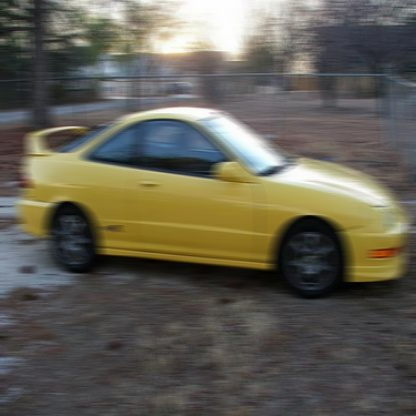Vehicle: (18, 107, 413, 305)
